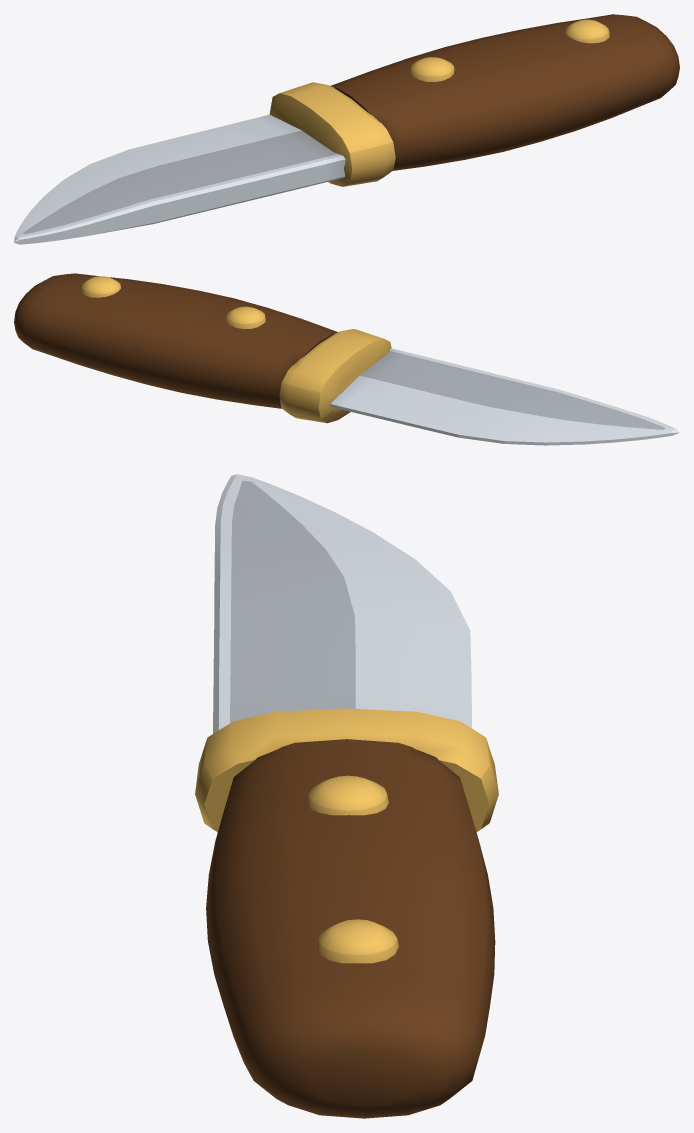
File: knife.glb
The picture shows the model from 3 angles, top to bottom: view 1: azimuth 30°, elevation 25°; view 2: azimuth 150°, elevation 25°; view 3: azimuth 270°, elevation 25°; orthographic projection. The views are drawn at different scales.
Visible parts, largest first — view 1: knife_mesh_knifehandle, knife_mesh_knifeblade, knife_mesh_brass; view 2: knife_mesh_knifehandle, knife_mesh_knifeblade, knife_mesh_brass; view 3: knife_mesh_knifehandle, knife_mesh_knifeblade, knife_mesh_brass.
Part boxes in pixels (x1,y1,x2,y2): knife_mesh_knifehandle: (331,14,679,170); knife_mesh_knifeblade: (14,114,345,244); knife_mesh_brass: (269,19,609,186); knife_mesh_knifehandle: (14,273,337,408); knife_mesh_knifeblade: (330,348,679,445); knife_mesh_brass: (81,276,391,423); knife_mesh_knifehandle: (206,739,495,1118); knife_mesh_knifeblade: (213,474,472,733); knife_mesh_brass: (195,708,498,963).
Size of the model in its own units: 1.52 by 0.209 by 0.3242.
